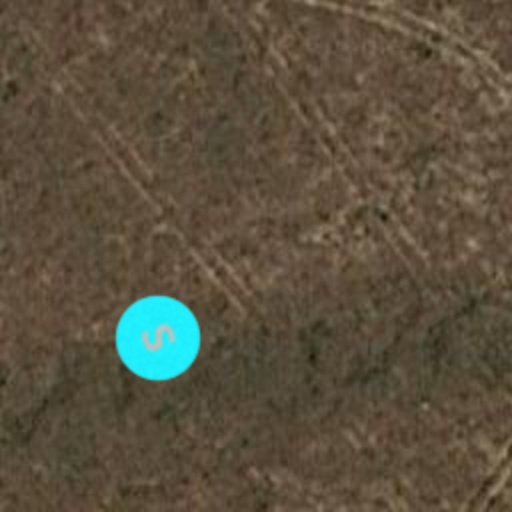circle: (102, 282, 214, 394)
